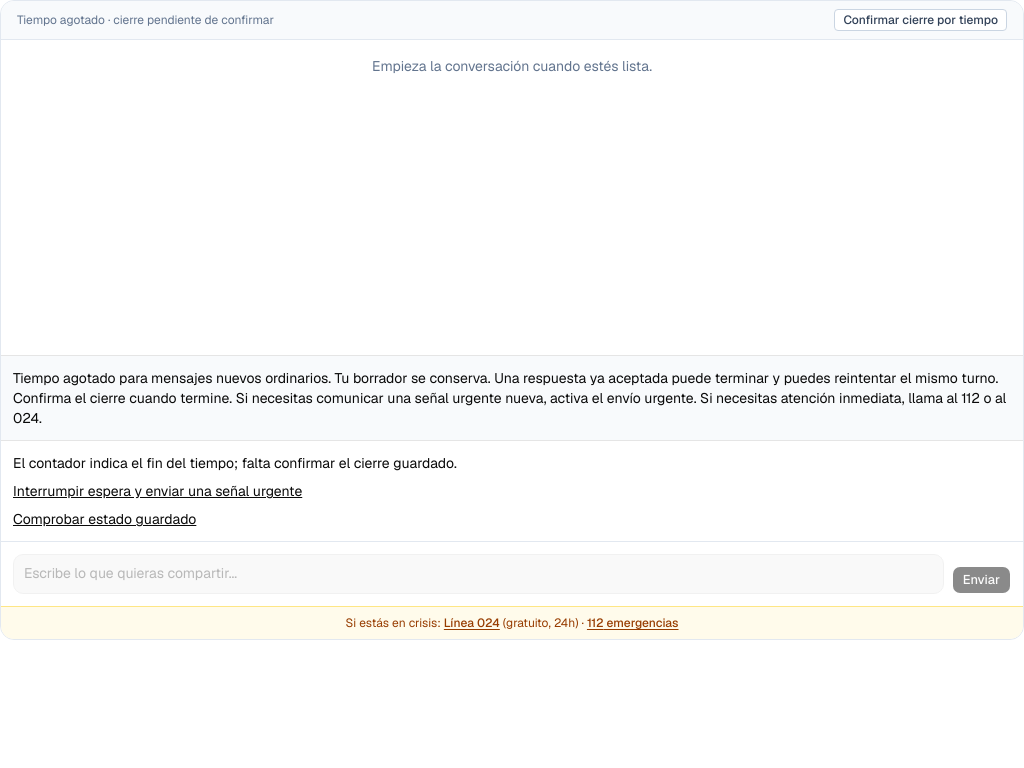
Test: confirms closure explicitly and retains an unsent urgent draft without navigating
Click the button "Interrumpir espera y enviar una señal urgente". click: (158, 491)
box: x1=13 y1=481 x2=302 y2=501
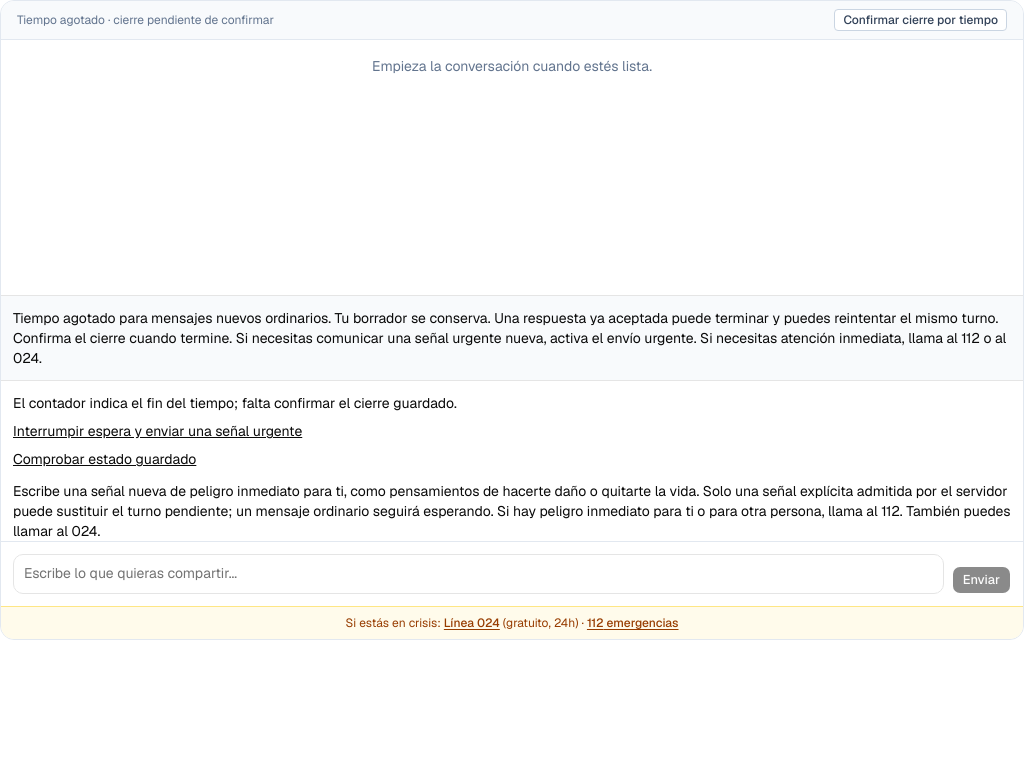
Type "Un detalle sin enviar" into the text box. click: (478, 574)
box: x1=13 y1=554 x2=944 y2=594
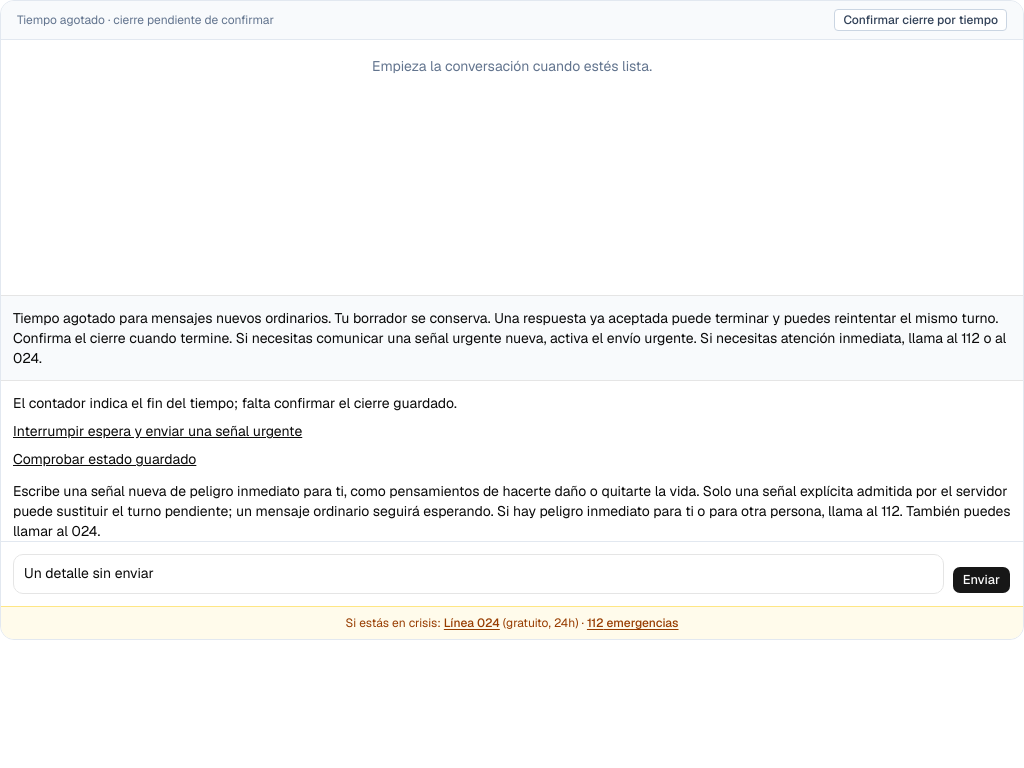
Click the button "Confirmar cierre por tiempo". click: (921, 20)
box: x1=834 y1=9 x2=1007 y2=31
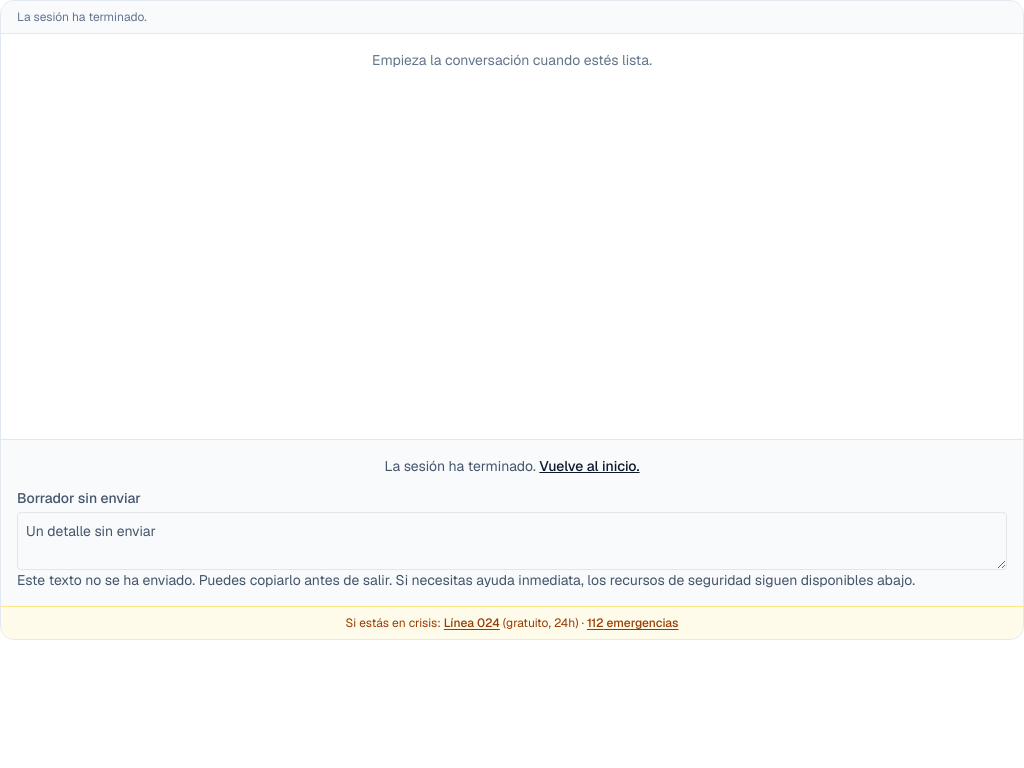
Check: the text box labelled "Borrador sin enviar" holds "Un detalle sin enviar", box x1=17 y1=512 x2=1007 y2=570
